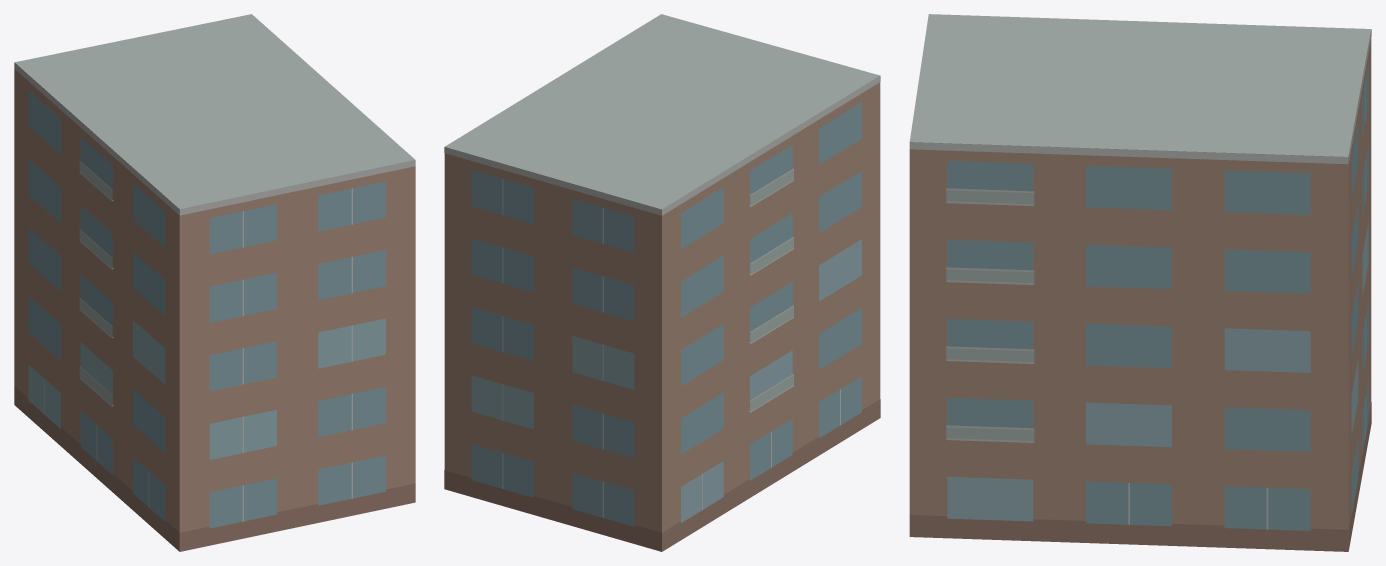
File: survey-upis-32643751.glb
3 views of the same model, side by side, from view 1: azimuth 30°, elevation 25°; view 2: azimuth 150°, elevation 25°; view 3: azimuth 270°, elevation 25° (orthographic). The views are drawn at different scales.
Parts seen in each view (by area): view 1: survey-upis-32643751.tmp; view 2: survey-upis-32643751.tmp; view 3: survey-upis-32643751.tmp.
Part boxes in pixels (left/top/right/bottom): survey-upis-32643751.tmp: left=14, top=14, right=415, bottom=551; survey-upis-32643751.tmp: left=444, top=14, right=880, bottom=551; survey-upis-32643751.tmp: left=909, top=14, right=1371, bottom=551.
Bounding box in the file's own units: 10.26 × 13.2 × 14.
